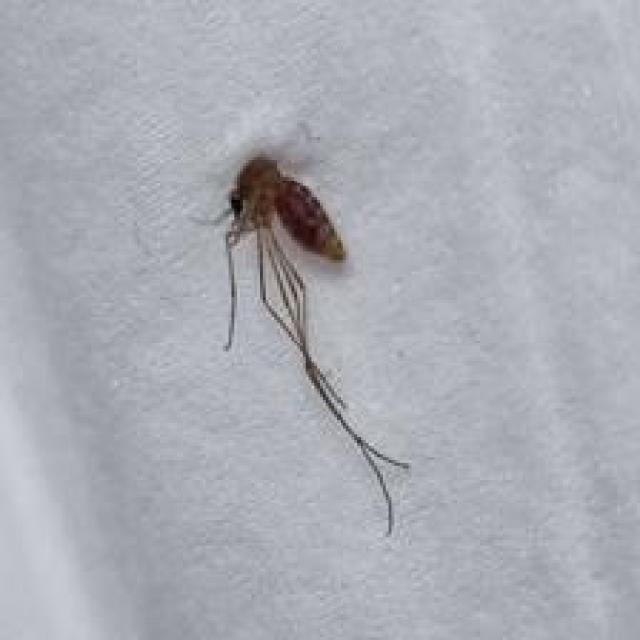Culex: (204, 152, 413, 537)
